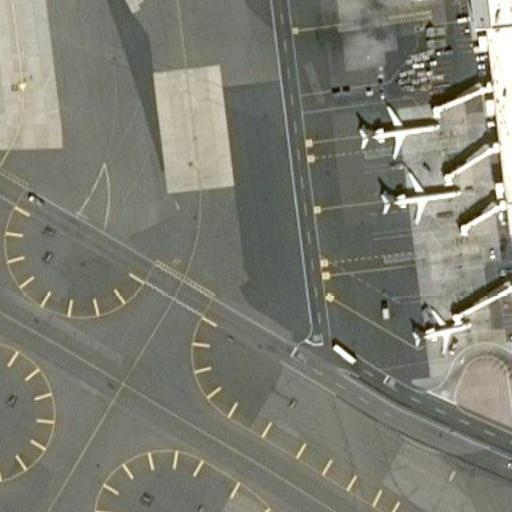Aircraft: (351, 100, 438, 159), (380, 168, 458, 224), (405, 299, 476, 351)
